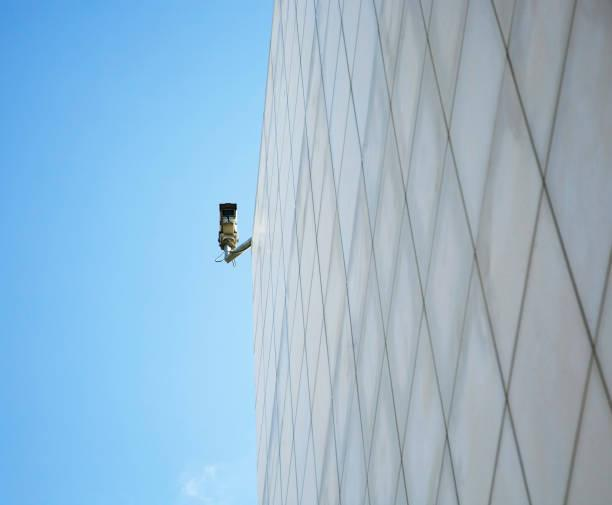camera: (196, 186, 261, 267)
